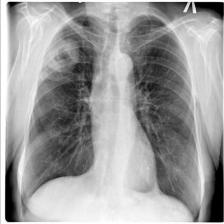tuberculosis: (15, 9, 206, 224)
